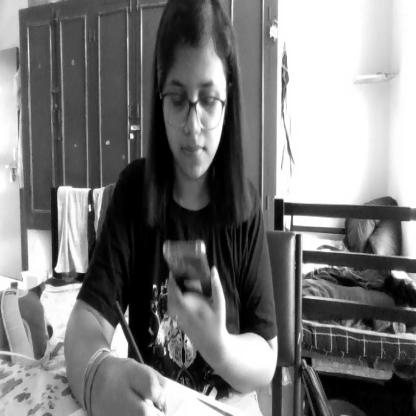Normal: (154, 0, 232, 188)
